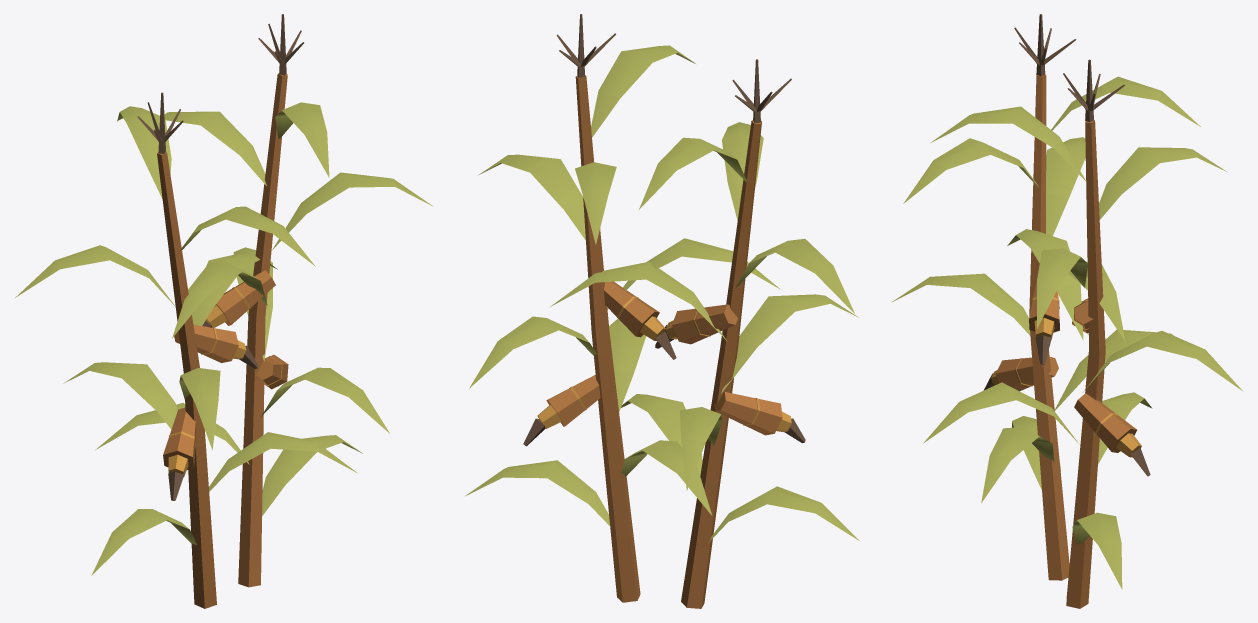
The model's file is crop_corn_overripe.glb.
3 views of the same model, side by side, from view 1: azimuth 30°, elevation 25°; view 2: azimuth 150°, elevation 25°; view 3: azimuth 270°, elevation 25° (orthographic). The views are drawn at different scales.
Visible parts, largest first — view 1: corn_leaf_00_00, corn_ear_00_0_husk, corn_ear_00_0_silk, corn_ear_00_0_cob; view 2: corn_leaf_00_00, corn_ear_00_0_husk, corn_ear_00_0_silk, corn_ear_00_0_cob; view 3: corn_leaf_00_00, corn_ear_00_0_husk, corn_ear_00_0_silk, corn_ear_00_0_cob.
Part boxes in pixels (box(x1,y1,x2,y2)): corn_leaf_00_00: box(15, 102, 433, 575); corn_ear_00_0_husk: box(157, 73, 288, 608); corn_ear_00_0_silk: box(137, 14, 304, 500); corn_ear_00_0_cob: box(168, 287, 282, 477); corn_leaf_00_00: box(465, 45, 859, 542); corn_ear_00_0_husk: box(546, 75, 782, 608); corn_ear_00_0_silk: box(523, 14, 805, 446); corn_ear_00_0_cob: box(537, 296, 791, 431); corn_leaf_00_00: box(891, 76, 1242, 589); corn_ear_00_0_husk: box(995, 74, 1136, 608); corn_ear_00_0_silk: box(983, 14, 1150, 476); corn_ear_00_0_cob: box(991, 297, 1141, 457).
Size of the model in its own units: 1.43 by 1.94 by 1.11.
